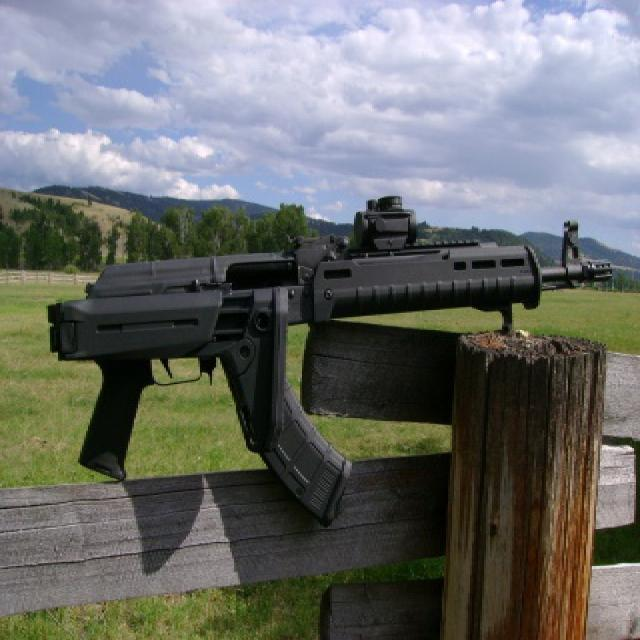weapon: (24, 196, 614, 524)
